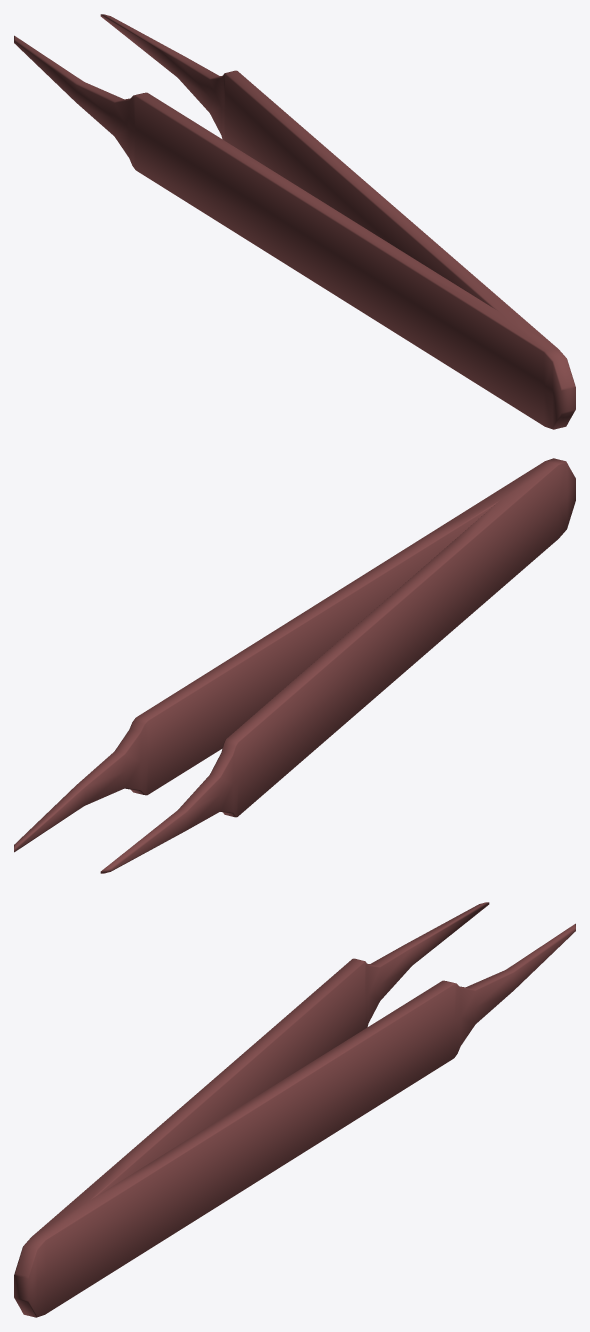
Rendered from Tweezers.fbx.
3 views of the same model, one above another, from view 1: azimuth 30°, elevation 25°; view 2: azimuth 150°, elevation 25°; view 3: azimuth 330°, elevation 25° (orthographic).
Visible parts, largest first — view 1: Tweezers; view 2: Tweezers; view 3: Tweezers.
Part boxes in pixels (x1,y1,x2,y2): Tweezers: (14, 14, 575, 429); Tweezers: (14, 458, 575, 873); Tweezers: (14, 902, 575, 1317).
Bounding box in the file's own units: 1.06 × 8.45 × 0.6889.
